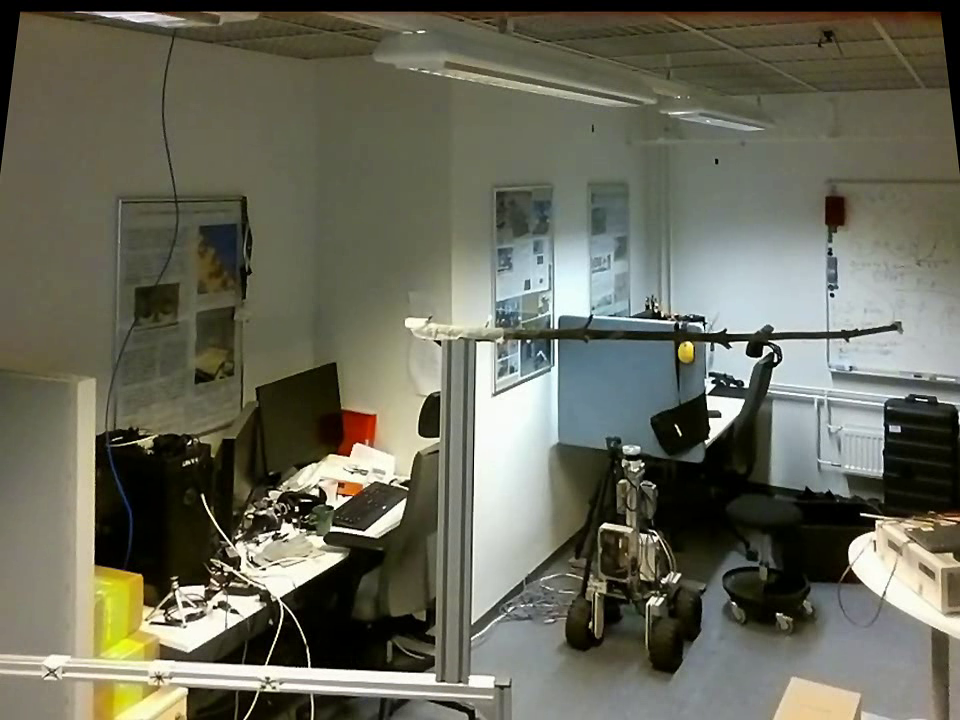aluminum_frame: (1, 649, 497, 705), (432, 342, 475, 680), (825, 359, 958, 386), (819, 173, 958, 189), (821, 177, 832, 369), (479, 678, 519, 718)
branch: (509, 308, 889, 355)
